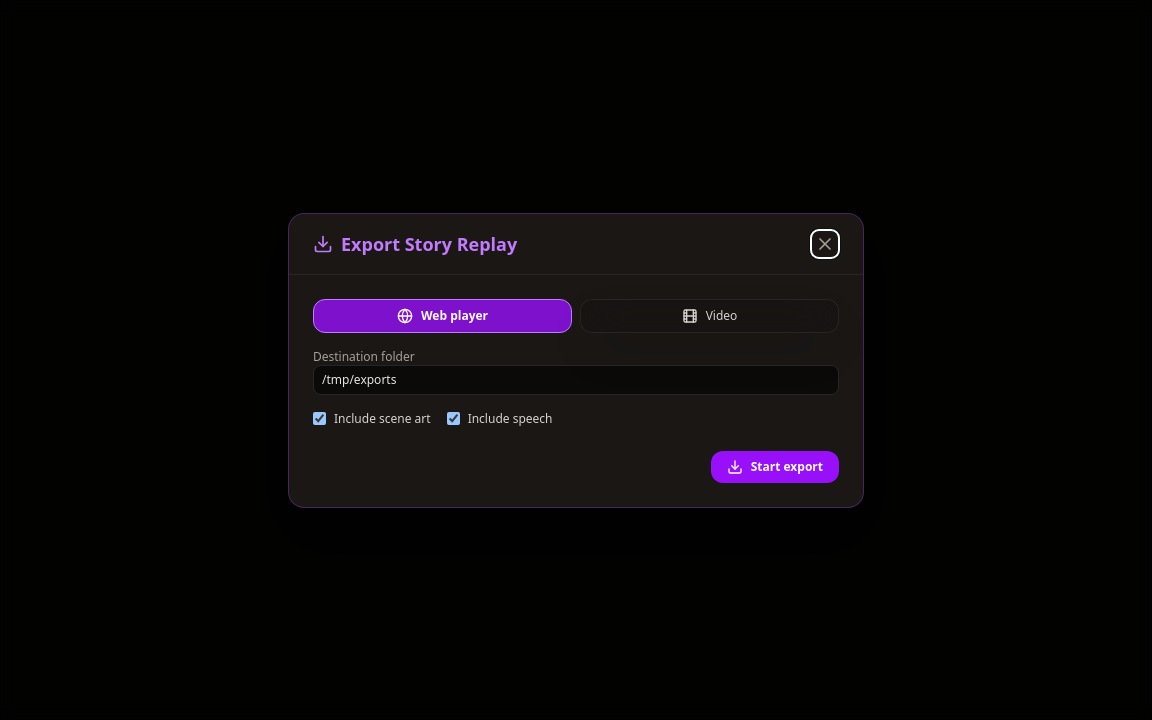
Test: ExportModal › error states › displays error banner when an export error event arrives
Click the button "Start export" at (775, 466), box [711,450,839,482]
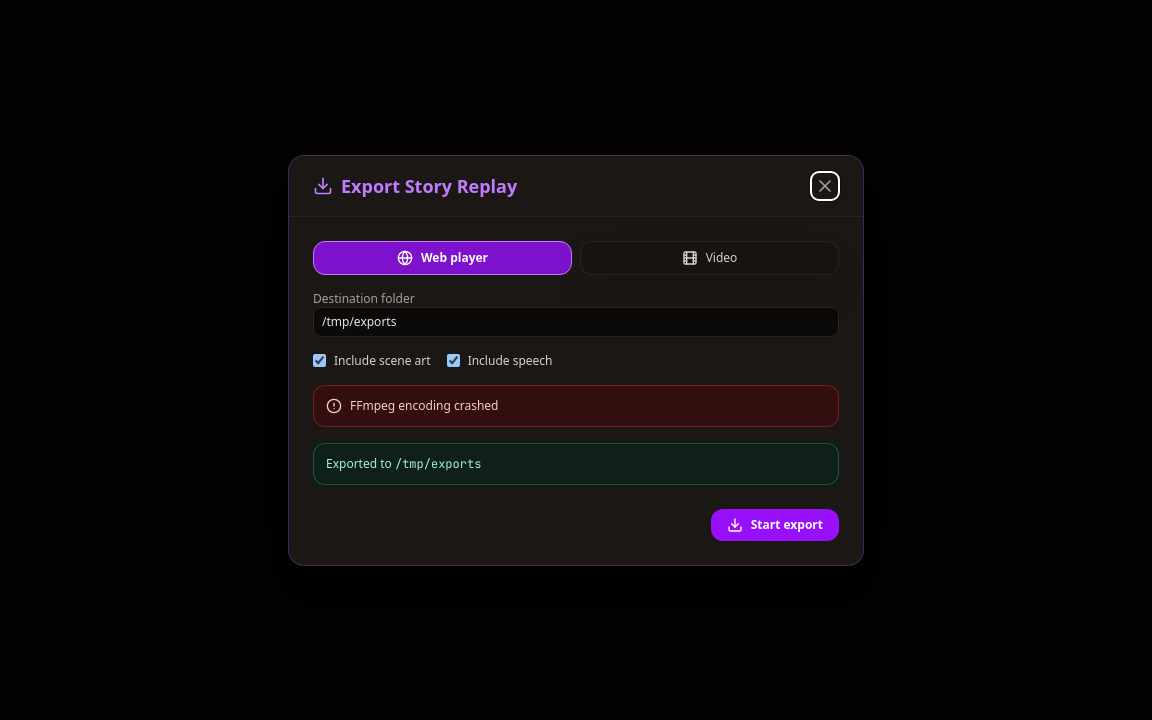
Expected: the button "Start export" is shown, [711,508,839,540]
Now the text "FFmpeg encoding crashed" is shown, box [350,398,498,414]
